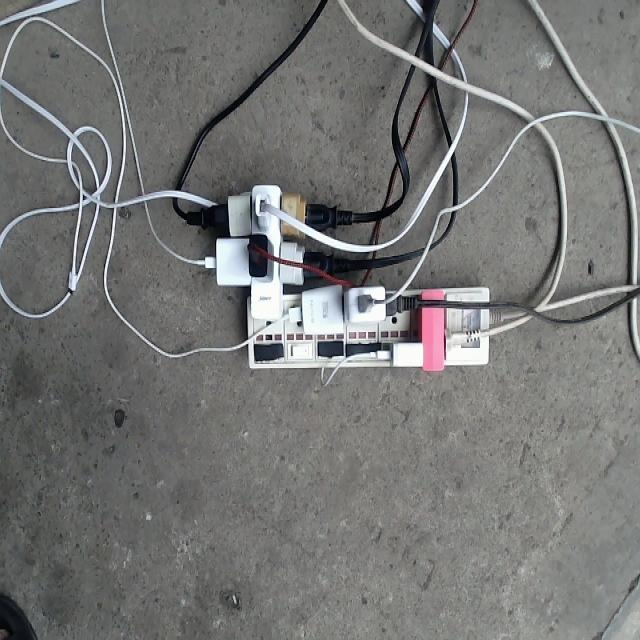-: (201, 180, 492, 371)
